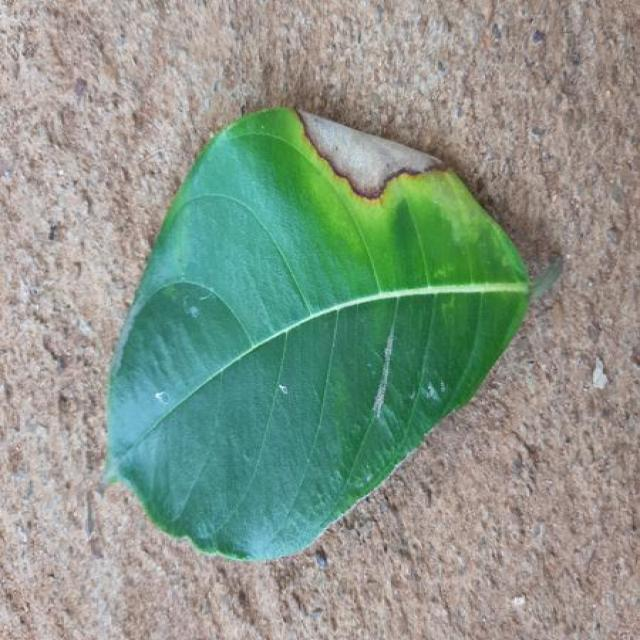Jackfruit: (108, 108, 532, 559)
